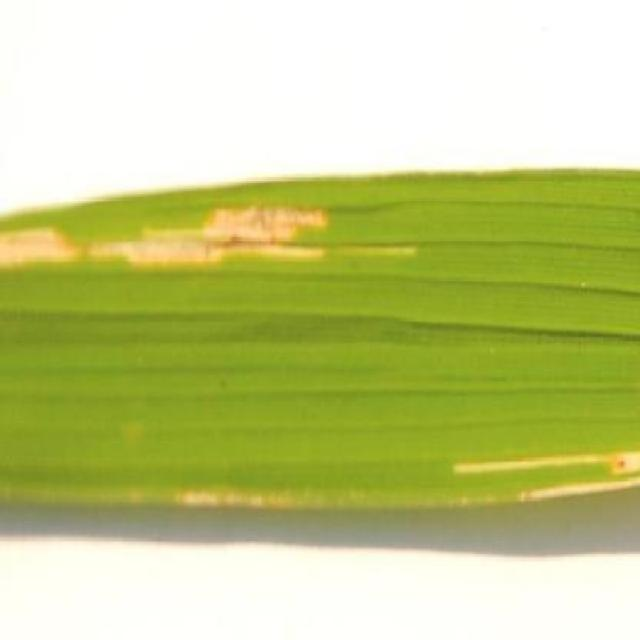Brown_Spot: (1, 158, 639, 570), (0, 169, 455, 301), (441, 416, 639, 586)
